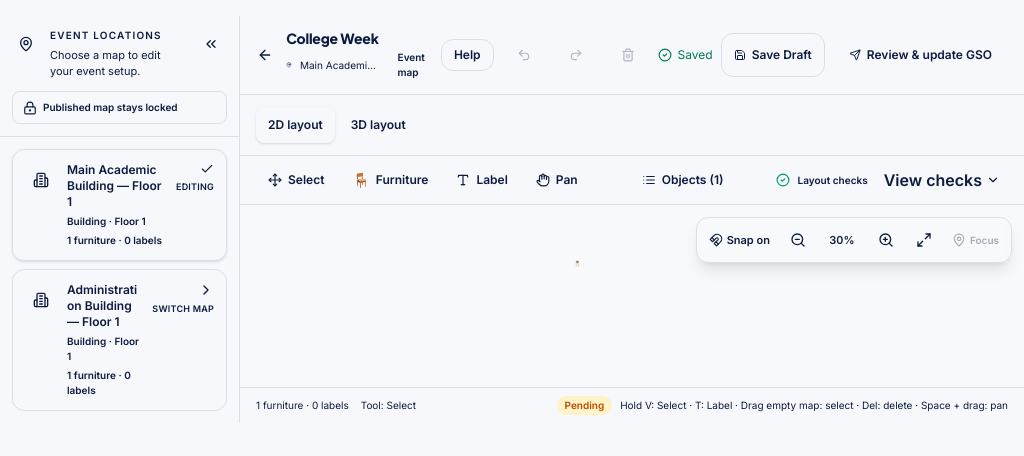
Scenario: StudentEventEditPage pending interaction boundaries › keeps location identity when a save finishes after switching the active map
Expected: the element with test id "event-furniture-a-chair" is shown, [574,260,581,267]
Click the button "Save Draft".
click(773, 55)  # box [721,33,825,77]
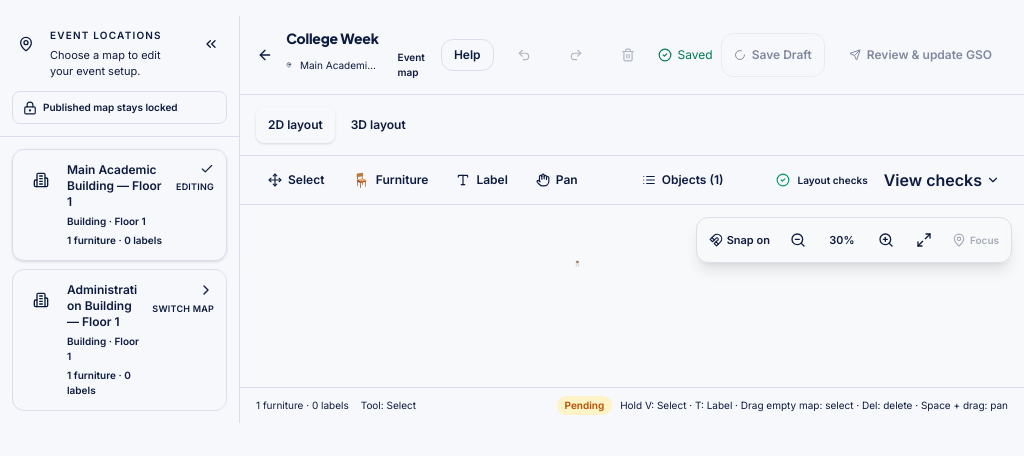
Click the button "Administration Building".
click(120, 340)  # box [12,269,227,411]
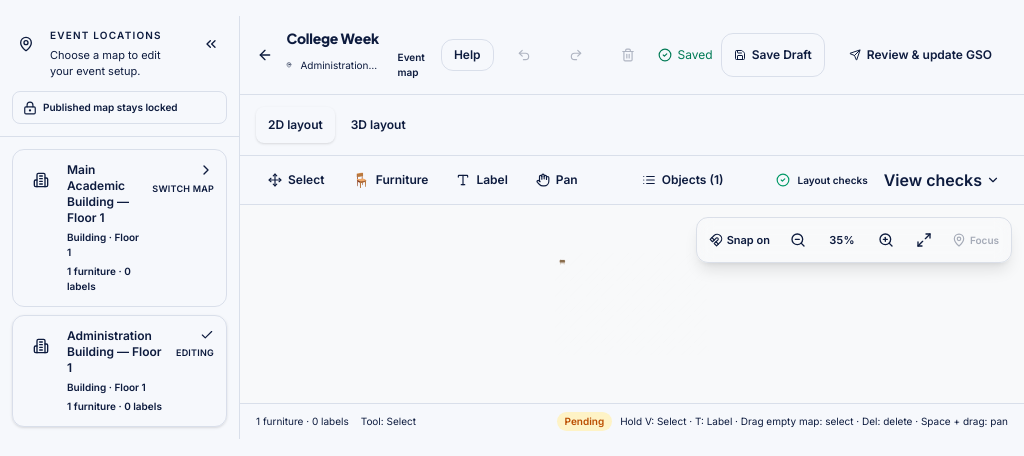
Expected: the element with test id "event-furniture-b-table" is shown, [559,259,566,266]
Click the button "Main Academic Building".
click(120, 228)  # box [12,149,227,307]
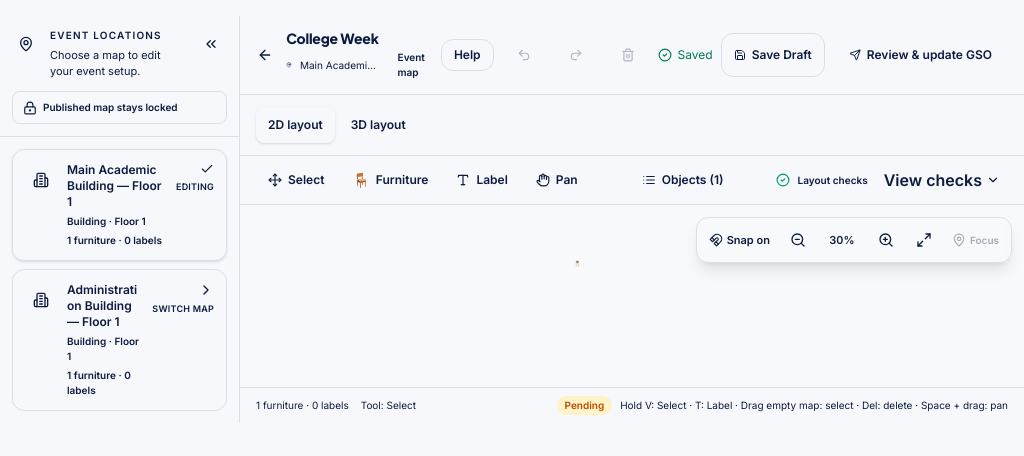
Expected: the element with test id "event-furniture-a-chair" is shown, [574,260,581,267]
